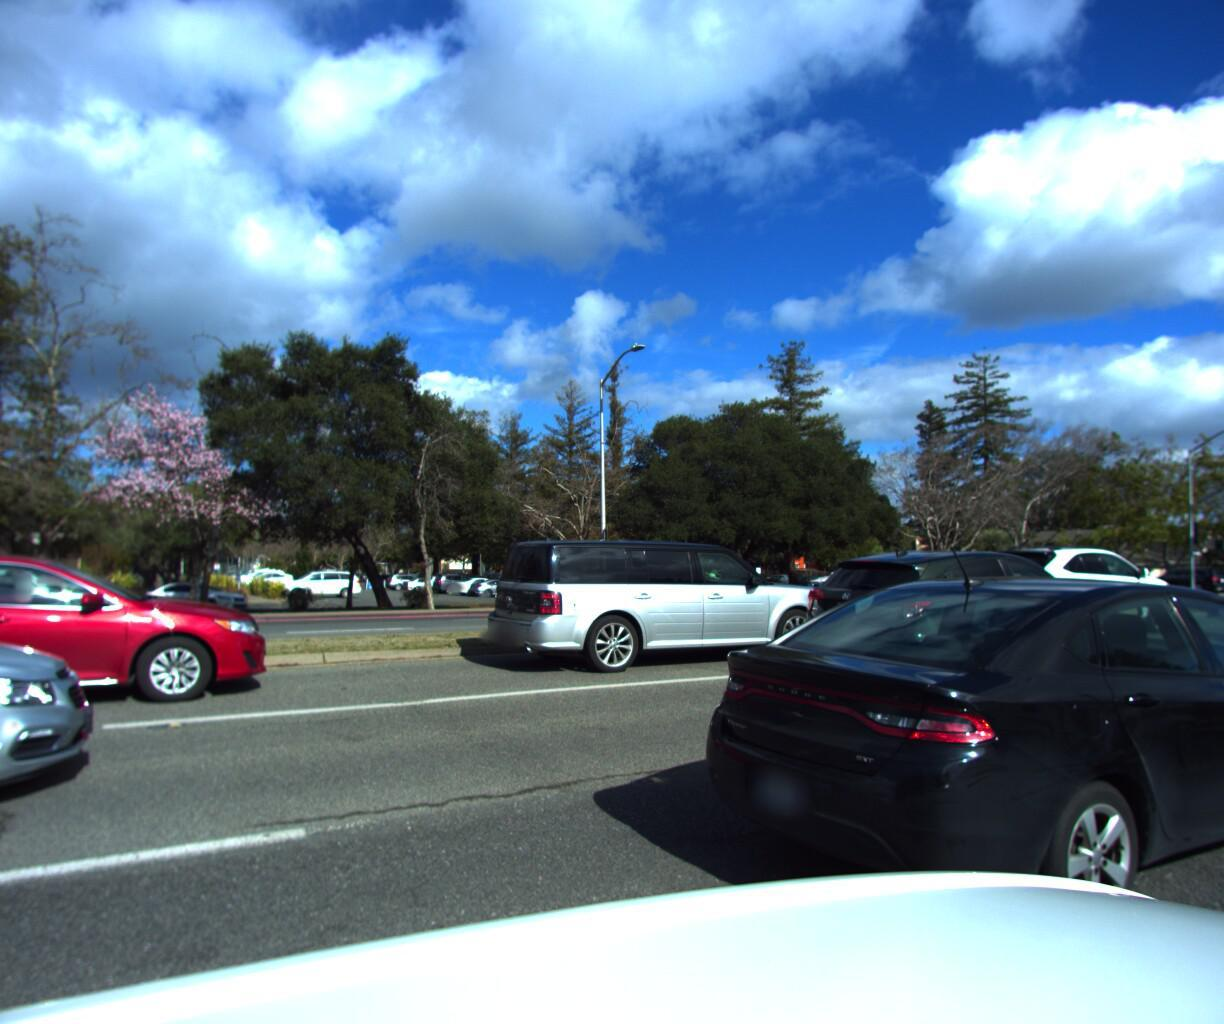car: (681, 509, 1224, 991), (770, 542, 1150, 715), (482, 534, 852, 685), (0, 551, 283, 748), (0, 560, 95, 1011), (950, 534, 1183, 639), (800, 561, 921, 608)
